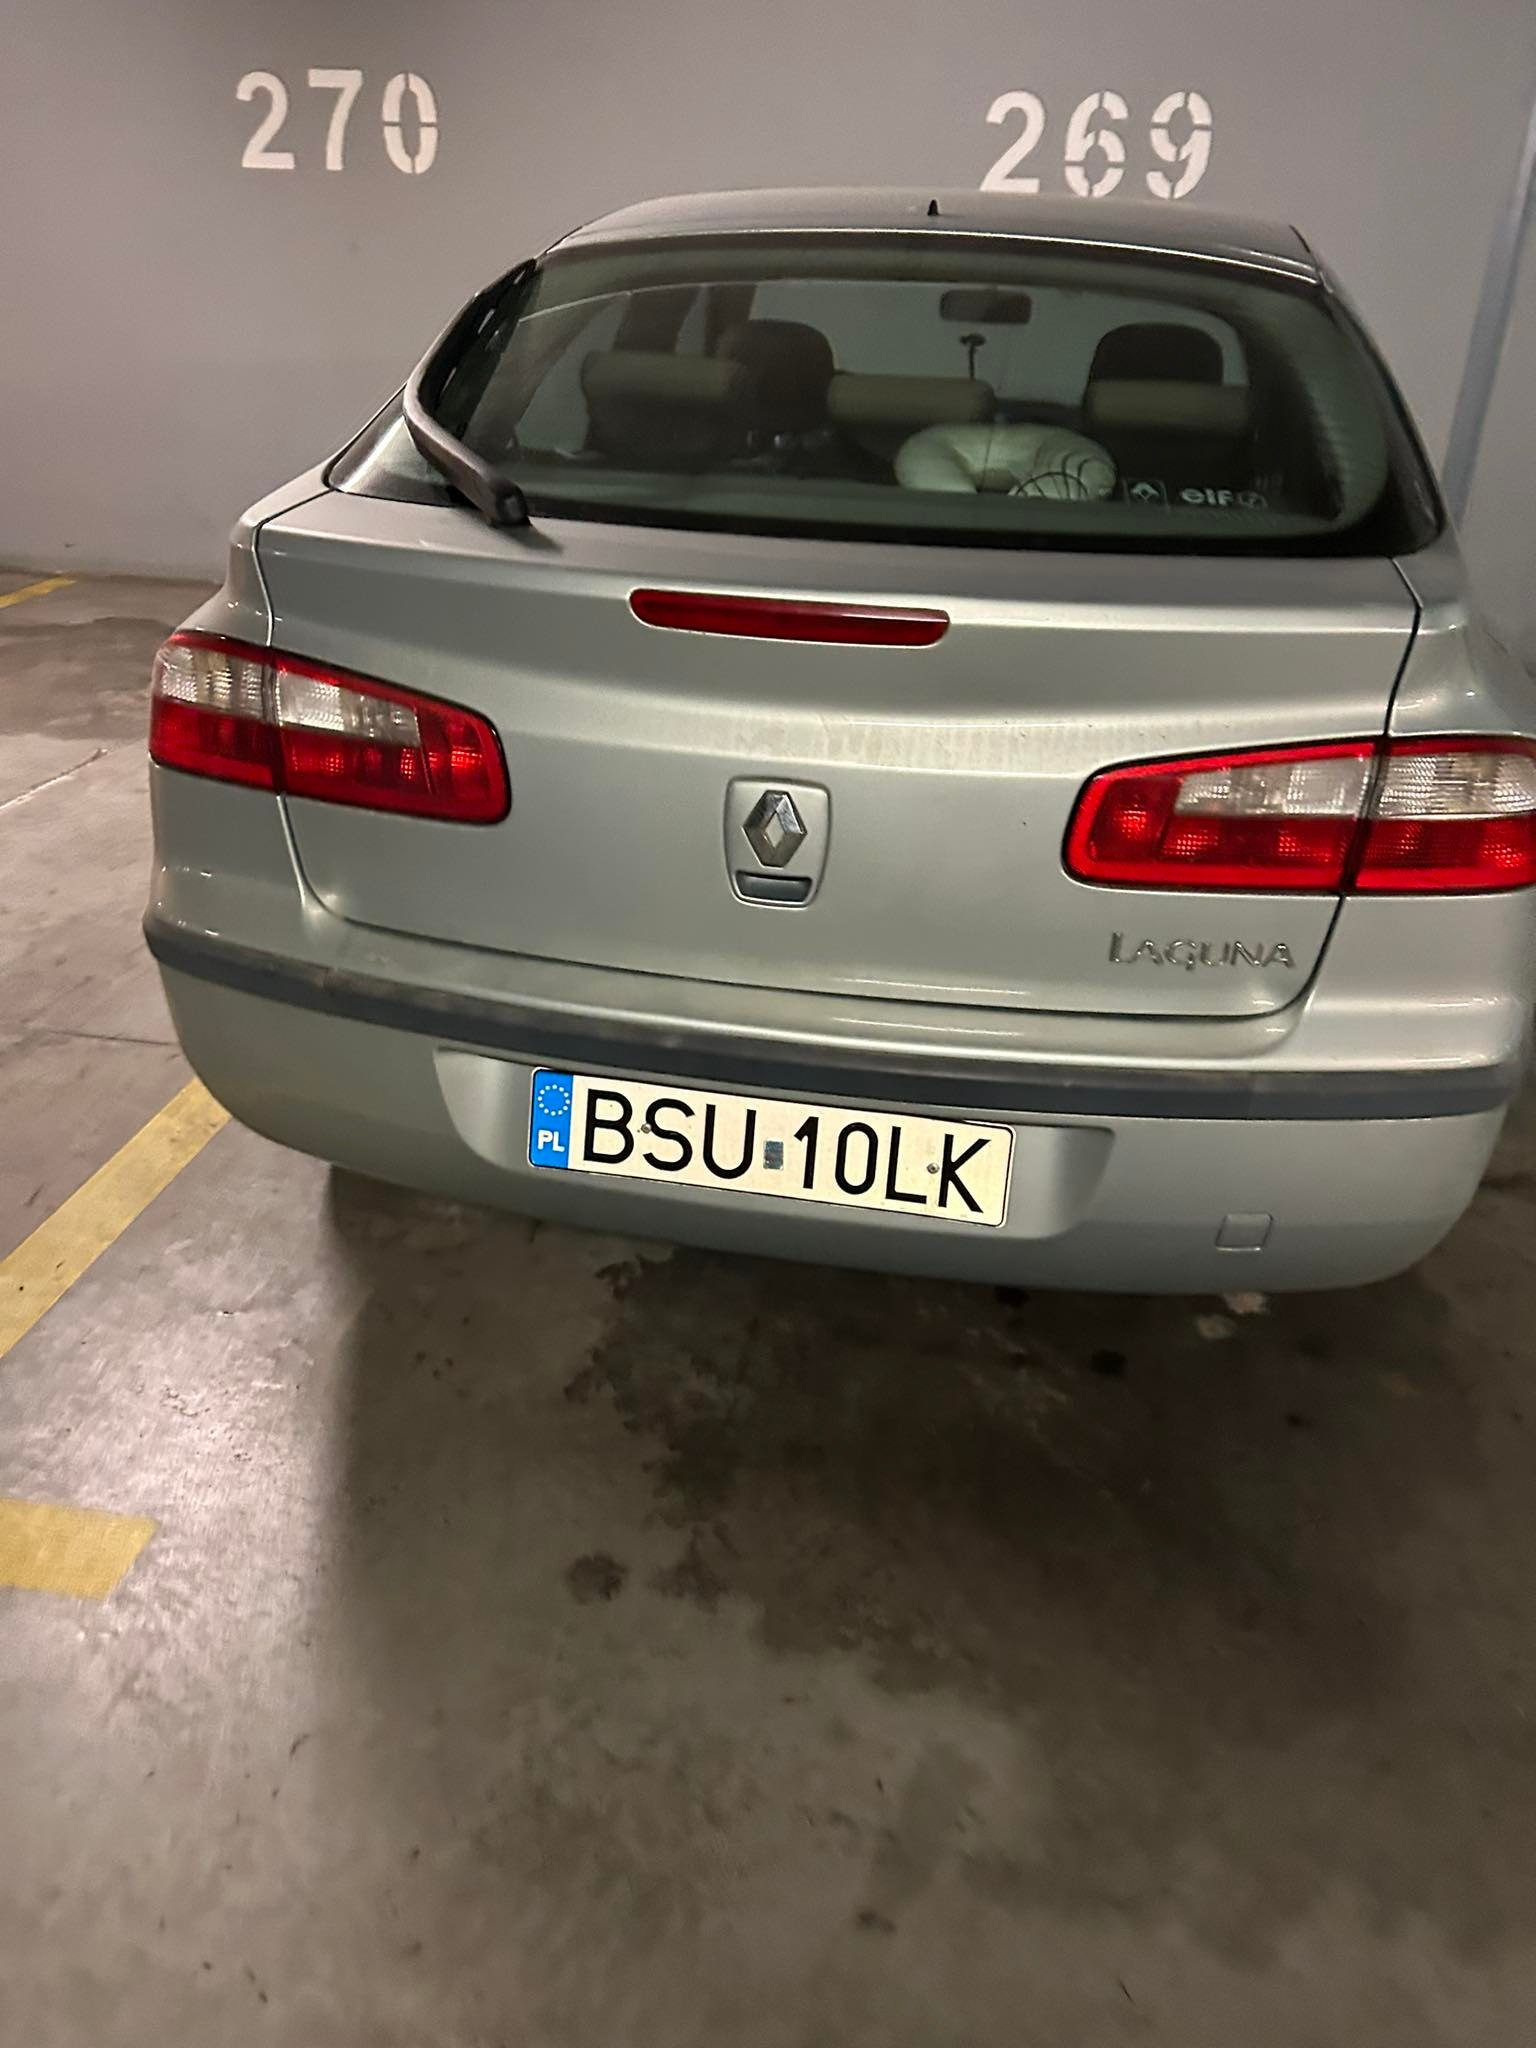number_plate: (528, 1063, 1012, 1239)
